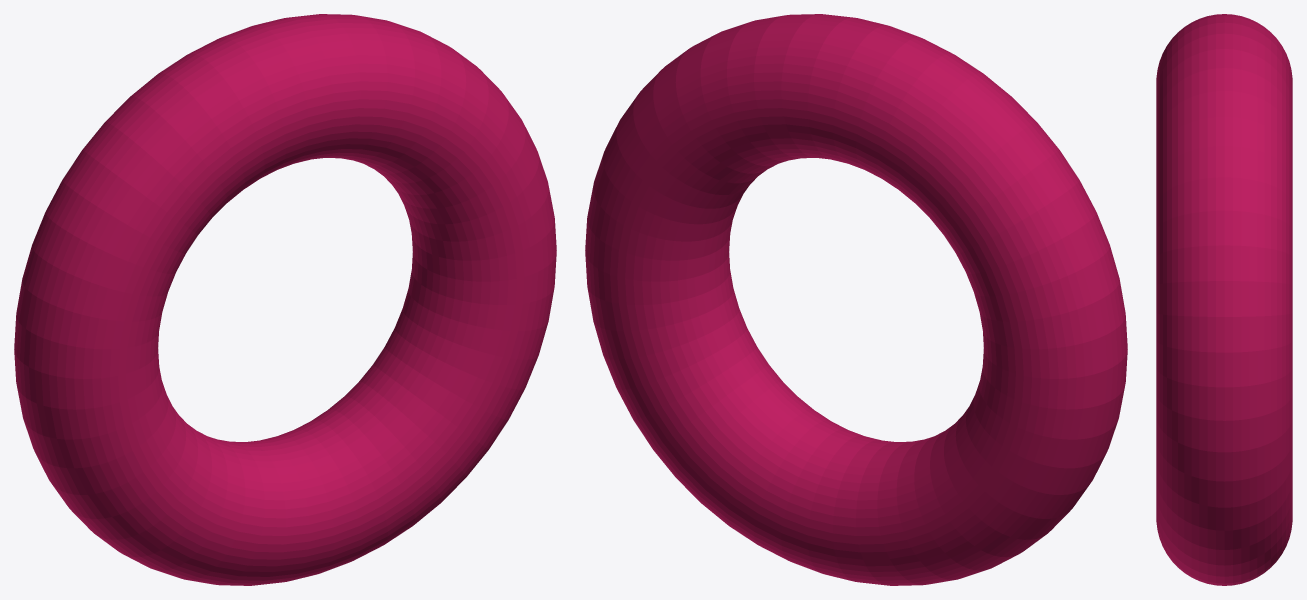
3 renders of one model, left to right at view 1: azimuth 30°, elevation 25°; view 2: azimuth 150°, elevation 25°; view 3: azimuth 270°, elevation 25°, orthographic. The views are drawn at different scales.
Parts seen in each view (by area): view 1: world; view 2: world; view 3: world.
Part boxes in pixels (x1,y1,x2,y2): world: (14, 14, 556, 585); world: (585, 14, 1127, 585); world: (1156, 14, 1292, 585).
Bounding box in the file's own units: 34.13 × 34.07 × 8.12.
